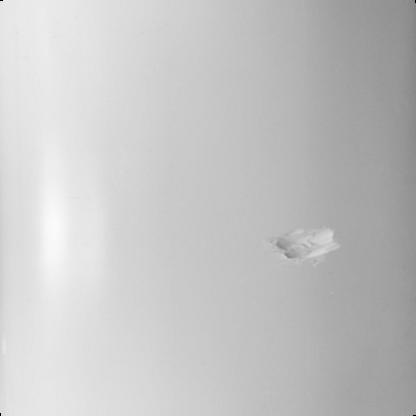sunshang: (273, 223, 338, 263)
